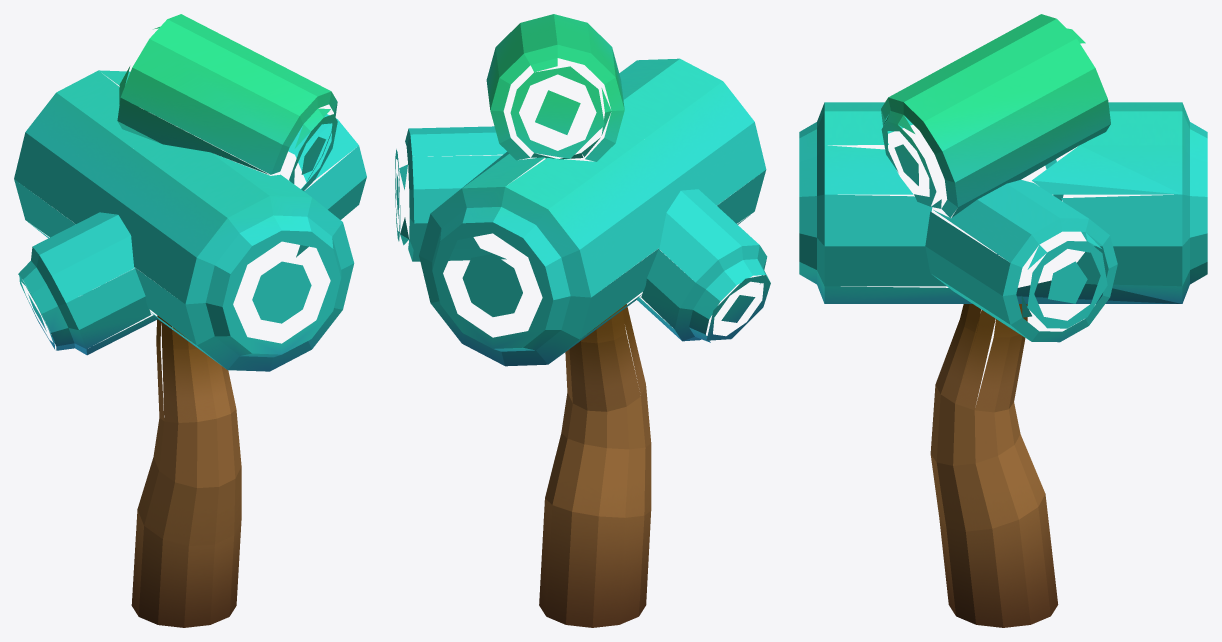
The model's file is Tree.glb.
3 renders of one model, left to right at view 1: azimuth 30°, elevation 25°; view 2: azimuth 150°, elevation 25°; view 3: azimuth 270°, elevation 25°, orthographic. The views are drawn at different scales.
Parts seen in each view (by area): view 1: Tree; view 2: Tree; view 3: Tree.
Boxes of the visible parts, box(x1,y1,x2,y2) form: Tree: box(14, 14, 366, 627); Tree: box(395, 14, 770, 627); Tree: box(799, 14, 1207, 627).
Bounding box in the file's own units: 2.54 × 4 × 2.5.
1 material, 1 textured.
